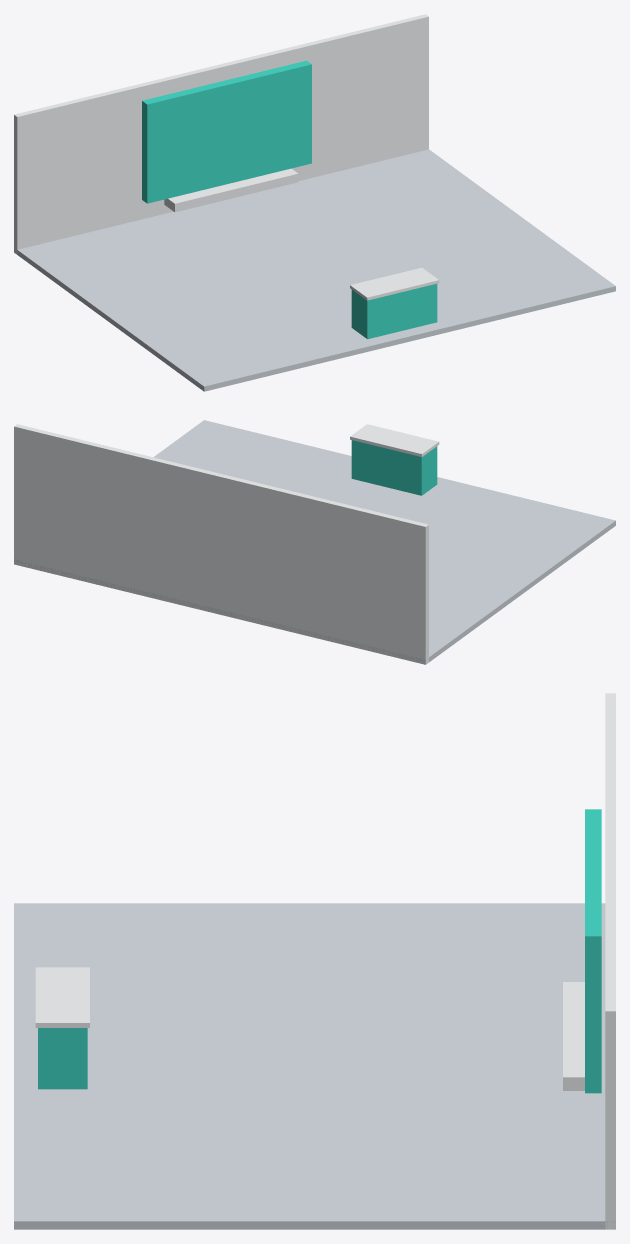
The picture shows the model from 3 angles, top to bottom: view 1: azimuth 30°, elevation 25°; view 2: azimuth 150°, elevation 25°; view 3: azimuth 270°, elevation 25°; orthographic projection. The views are drawn at different scales.
Visible parts, largest first — view 1: Exhibition Booth Concept; view 2: Exhibition Booth Concept; view 3: Exhibition Booth Concept.
Part boxes in pixels (x1=…): Exhibition Booth Concept: x1=14, y1=14, x2=615, y2=391; Exhibition Booth Concept: x1=14, y1=420, x2=615, y2=664; Exhibition Booth Concept: x1=14, y1=693, x2=615, y2=1229.
Bounding box in the file's own units: 10 × 3.2 × 8.
